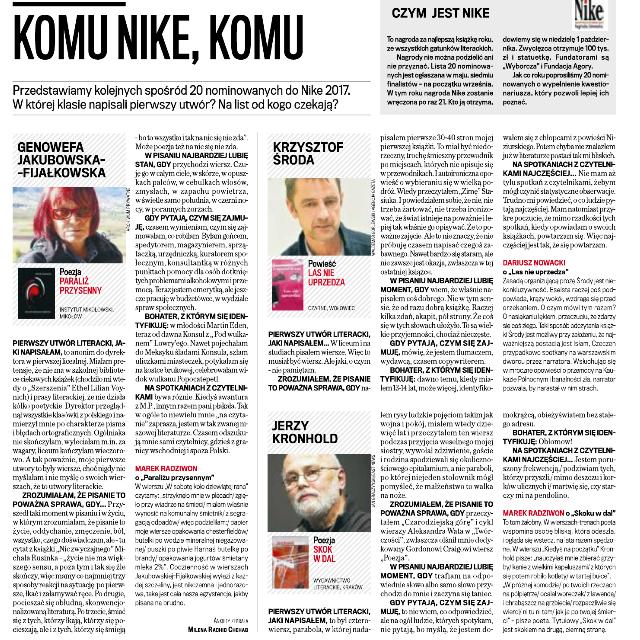body: (132, 132, 250, 608), (8, 335, 128, 637), (376, 130, 496, 396), (500, 131, 620, 395), (499, 406, 621, 634), (379, 407, 495, 636), (264, 328, 372, 398), (264, 604, 372, 636)
caption: (13, 136, 112, 180), (56, 266, 116, 322), (305, 258, 359, 314), (314, 535, 364, 591), (268, 414, 354, 446), (270, 138, 348, 168)
image: (10, 183, 126, 265), (265, 173, 375, 259), (264, 450, 374, 534), (266, 536, 312, 594), (15, 268, 56, 320), (267, 259, 305, 313)
lead: (385, 4, 613, 108), (11, 81, 353, 113)
title: (11, 12, 308, 66)
